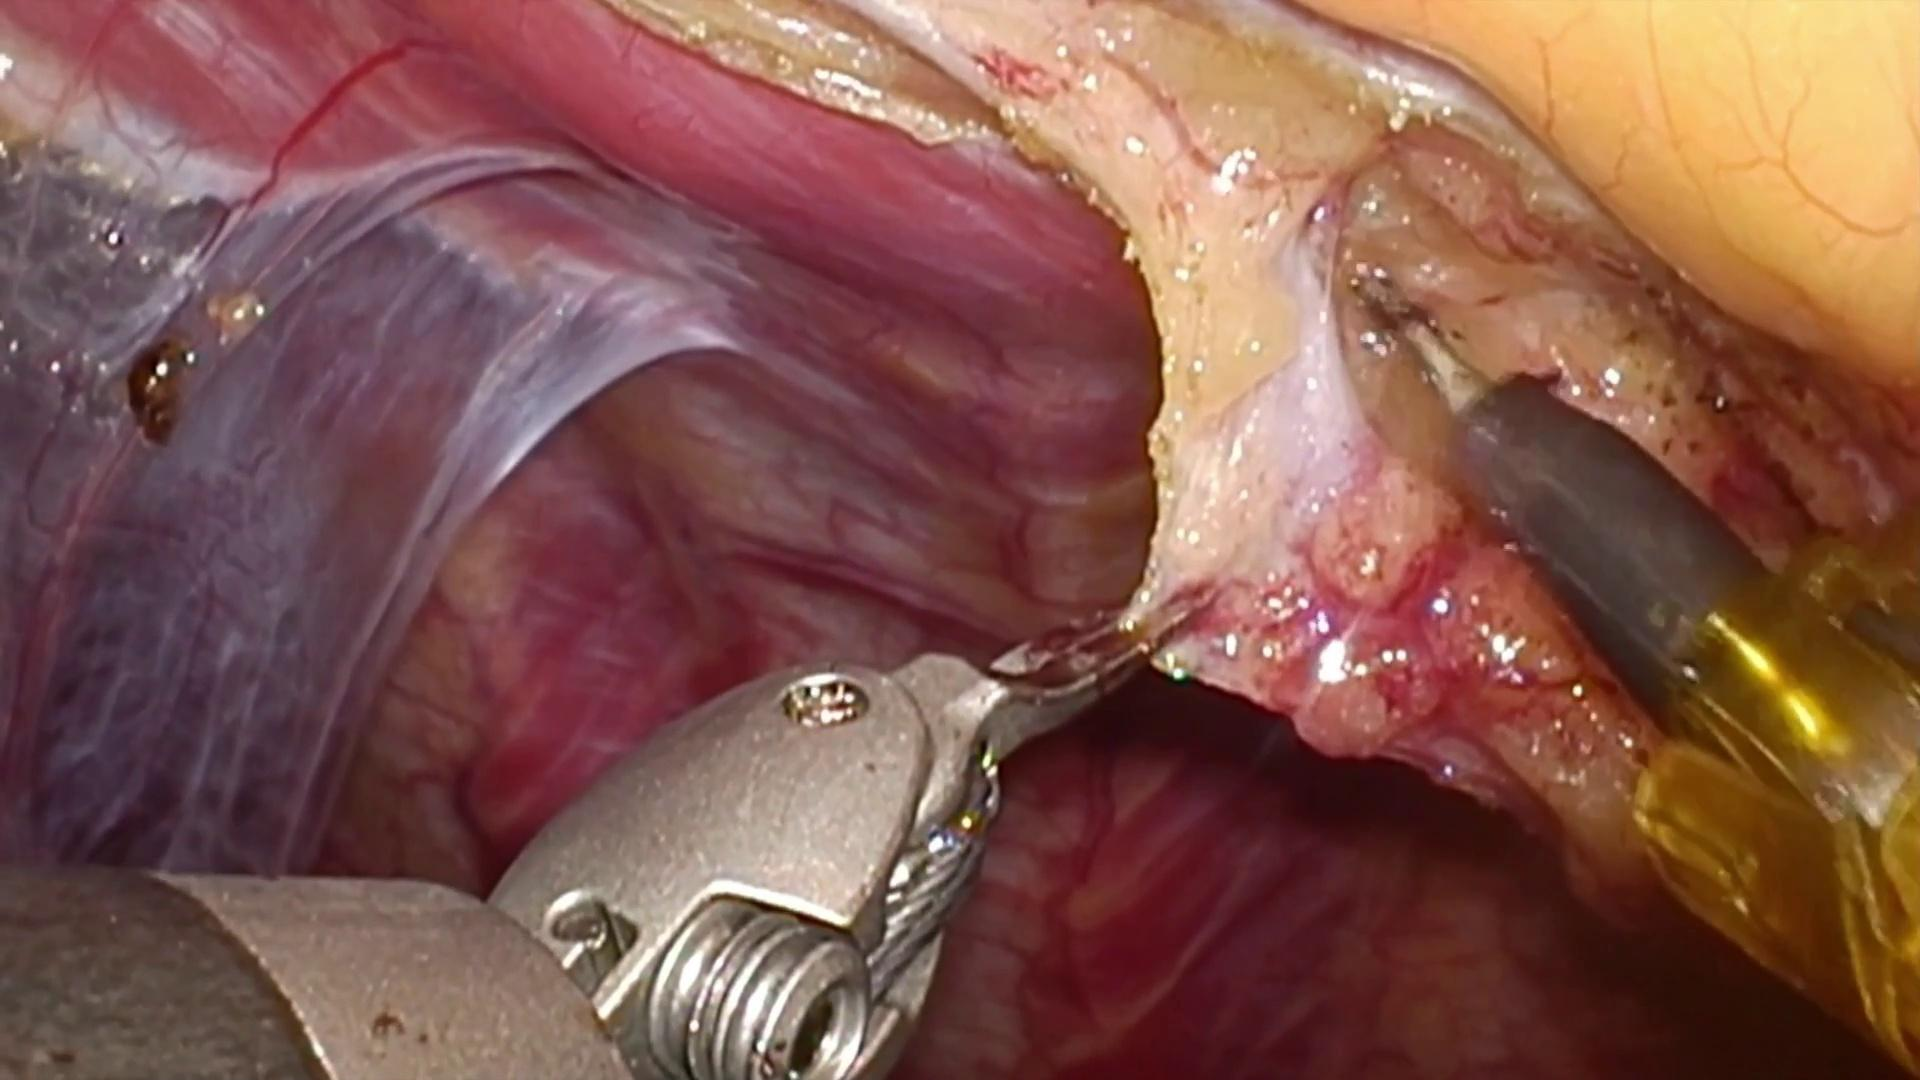Cautery_Spatula: (1352, 266, 1772, 720)
Debakey: (886, 533, 1228, 796)
